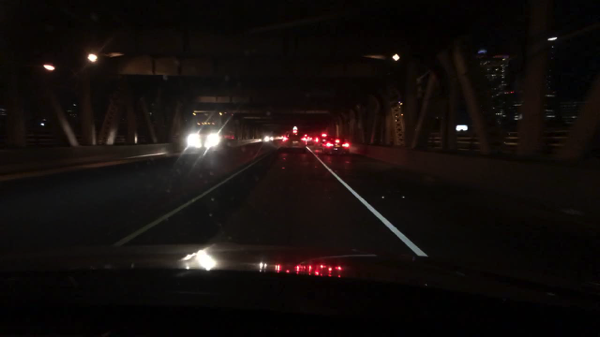bus: (186, 109, 240, 152)
car: (277, 125, 307, 153), (322, 136, 350, 155), (318, 133, 332, 147), (263, 136, 275, 143), (306, 137, 315, 142)
